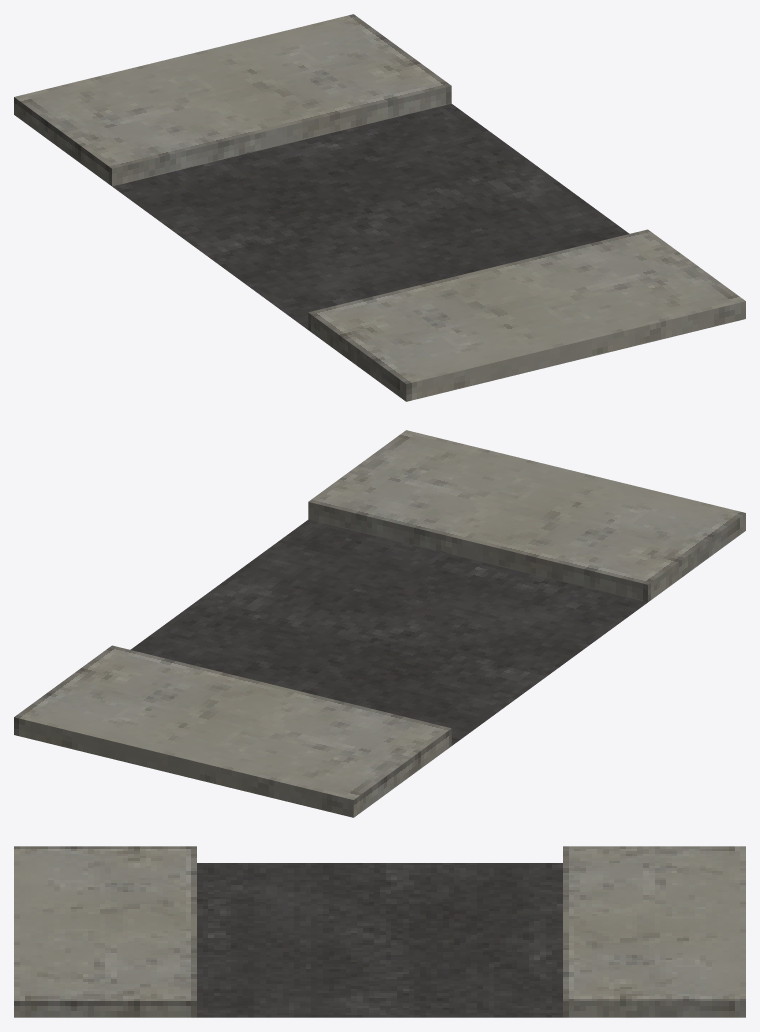
Rendered from roadAsphalt_straight.glb.
3 renders of one model, top to bottom at view 1: azimuth 30°, elevation 25°; view 2: azimuth 150°, elevation 25°; view 3: azimuth 270°, elevation 25°, orthographic. The views are drawn at different scales.
Visible parts, largest first — view 1: roadAsphalt_straight; view 2: roadAsphalt_straight; view 3: roadAsphalt_straight.
Part boxes in pixels (x1,y1,x2,y2): roadAsphalt_straight: (14, 14, 745, 401); roadAsphalt_straight: (14, 430, 745, 817); roadAsphalt_straight: (14, 846, 745, 1017).
Size of the model in its own units: 1 by 0.05 by 2.
Materials: 2 (2 with a texture image).
